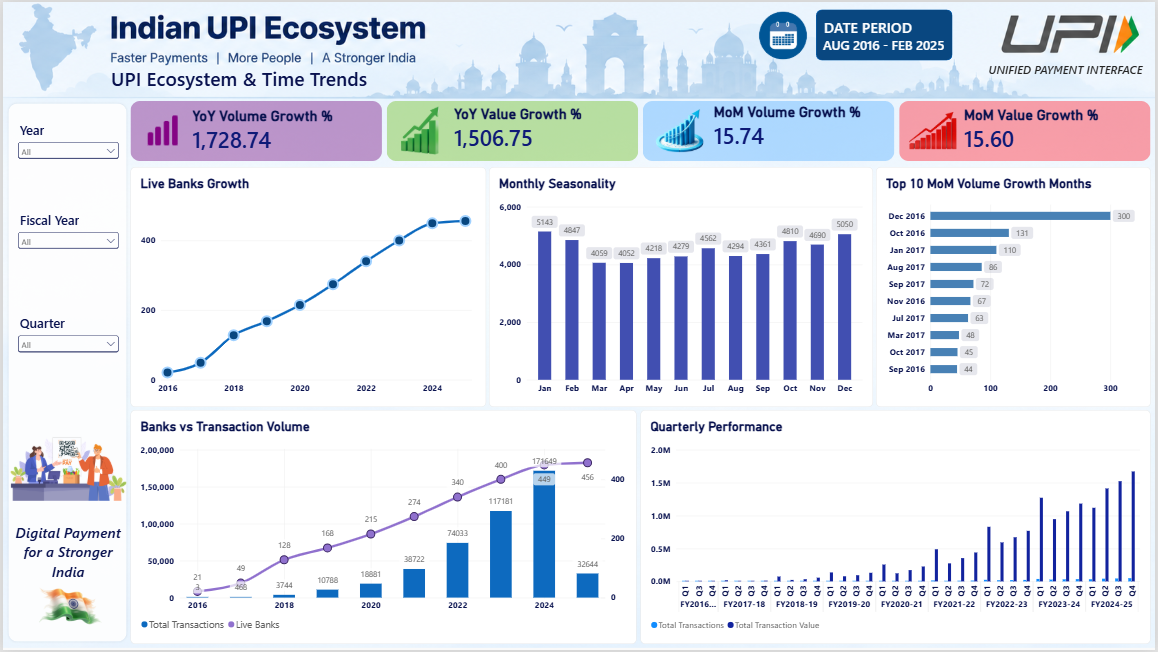

What the dashboard file says about the page in this screenshot:
{"tool":"powerbi","page":{"name":"Page 3","canvas":[1920,1080],"ordinal":2},"visuals":[{"type":"shape","box":[5,165,205,905],"z":0},{"type":"slicer","fields":{"Values":["DateTable.Year"]},"box":[20,197.5,177.5,97.5],"z":1000},{"type":"slicer","fields":{"Values":["DateTable.Quarter"]},"box":[20,520,177.5,97.5],"z":2000},{"type":"slicer","fields":{"Values":["DateTable.Fiscal Year"]},"box":[20,347.5,177.5,97.5],"z":3000},{"type":"image","box":[7.5,700,200,150],"z":4000},{"type":"image","box":[12.5,957.5,200,112.5],"z":5000},{"type":"textbox","box":[1642.5,100,278,40],"z":6000},{"type":"textbox","box":[20,867.5,177.5,120],"z":7000},{"type":"cardVisual","fields":{"Data":["MeasureTable.YoY Volume Growth %","MeasureTable.YoY Value Growth %","MeasureTable.MoM Volume Growth %","MeasureTable.MoM Value Growth %"]},"box":[212.5,165,1700,100],"z":8000},{"type":"textbox","box":[180,105,532.5,50],"z":9000},{"type":"image","box":[1245,0,110,115],"z":10000},{"type":"shape","box":[1355,12.5,227.5,85],"z":11000},{"type":"textbox","box":[1355,25,227.5,62.5],"z":12000},{"type":"lineChart","title":"Live Banks Growth","fields":{"Category":["DateTable.Year"],"Y":["MeasureTable.Live Banks"]},"box":[212.5,275,592.5,400],"z":13000},{"type":"lineClusteredColumnComboChart","title":"Banks vs Transaction Volume","fields":{"Category":["DateTable.Year"],"Y":["MeasureTable.Total Transactions"],"Y2":["MeasureTable.Live Banks"]},"box":[212.5,680,843,390],"z":14000},{"type":"clusteredColumnChart","title":"Monthly Seasonality","fields":{"Category":["DateTable.Month"],"Y":["MeasureTable.Average Monthly Transactions"]},"box":[810,275,640,400],"z":15000},{"type":"clusteredColumnChart","title":"Quarterly Performance","fields":{"Category":["DateTable.Fiscal Year","DateTable.Quarter"],"Y":["MeasureTable.Total Transactions","MeasureTable.Total Transaction Value"]},"box":[1062.5,680,850,390],"z":16000},{"type":"clusteredBarChart","title":"Top 10 MoM Volume Growth Months","fields":{"Category":["DateTable.Year Month"],"Y":["MeasureTable.MoM Volume Growth %"]},"box":[1455,275,458,400],"z":16001}]}

Visuals, with their boxes in screenshot pixels (x1, y1, x2, y2), scaled from the page's 1920x1080 canvas onto the 1158x652 screenshot:
shape: (3,100,127,646)
slicer - DateTable.Year: (12,119,119,178)
slicer - DateTable.Quarter: (12,314,119,373)
slicer - DateTable.Fiscal Year: (12,210,119,269)
image: (5,423,125,513)
image: (8,578,128,646)
textbox: (991,60,1157,85)
textbox: (12,524,119,596)
cardVisual - MeasureTable.YoY Volume Growth % x MeasureTable.YoY Value Growth %: (128,100,1153,160)
textbox: (109,63,430,94)
image: (751,0,817,69)
shape: (817,8,954,59)
textbox: (817,15,954,53)
"Live Banks Growth" lineChart: (128,166,486,408)
"Banks vs Transaction Volume" lineClusteredColumnComboChart: (128,411,637,646)
"Monthly Seasonality" clusteredColumnChart: (489,166,875,408)
"Quarterly Performance" clusteredColumnChart: (641,411,1153,646)
"Top 10 MoM Volume Growth Months" clusteredBarChart: (878,166,1154,408)
